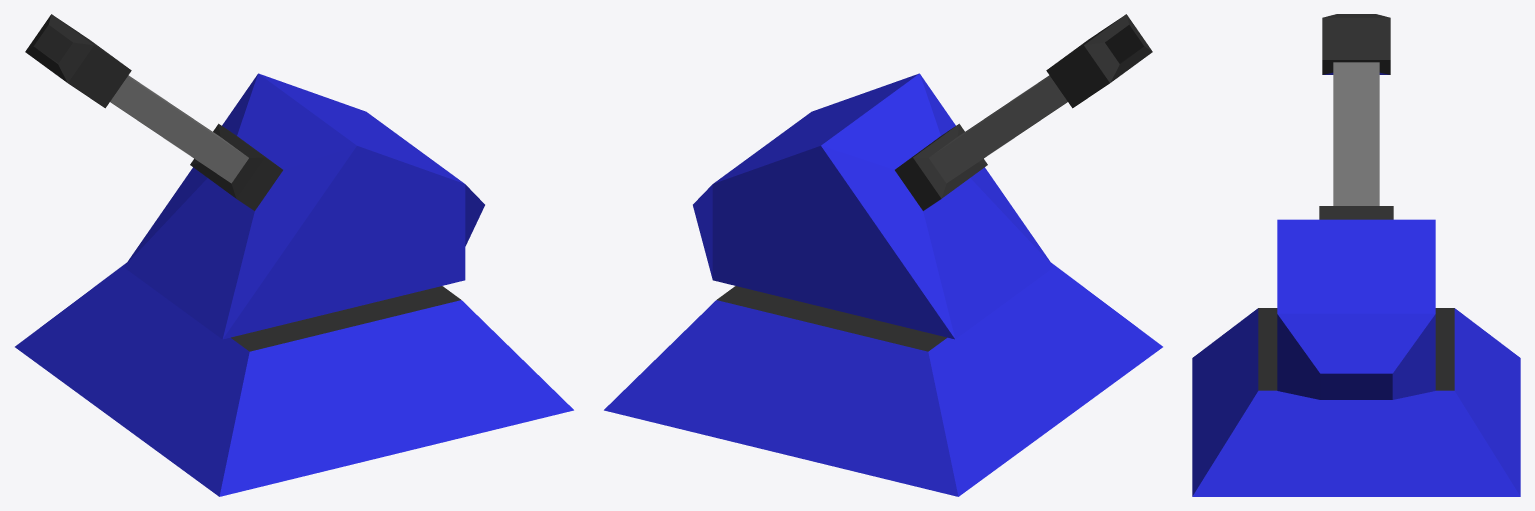
Rendered from assets.fbx.
3 views of the same model, side by side, from view 1: azimuth 30°, elevation 25°; view 2: azimuth 150°, elevation 25°; view 3: azimuth 270°, elevation 25° (orthographic). The views are drawn at different scales.
Parts seen in each view (by area): view 1: AntiAircraftBase, AntiAircraft; view 2: AntiAircraftBase, AntiAircraft; view 3: AntiAircraftBase, AntiAircraft.
Part boxes in pixels (x1,y1,x2,y2): AntiAircraftBase: (15, 263, 573, 496); AntiAircraft: (25, 14, 484, 339); AntiAircraftBase: (604, 263, 1162, 496); AntiAircraft: (693, 14, 1152, 339); AntiAircraftBase: (1192, 308, 1520, 496); AntiAircraft: (1277, 14, 1435, 399).
Size of the model in its own units: 2.34 by 2.12 by 1.95.
